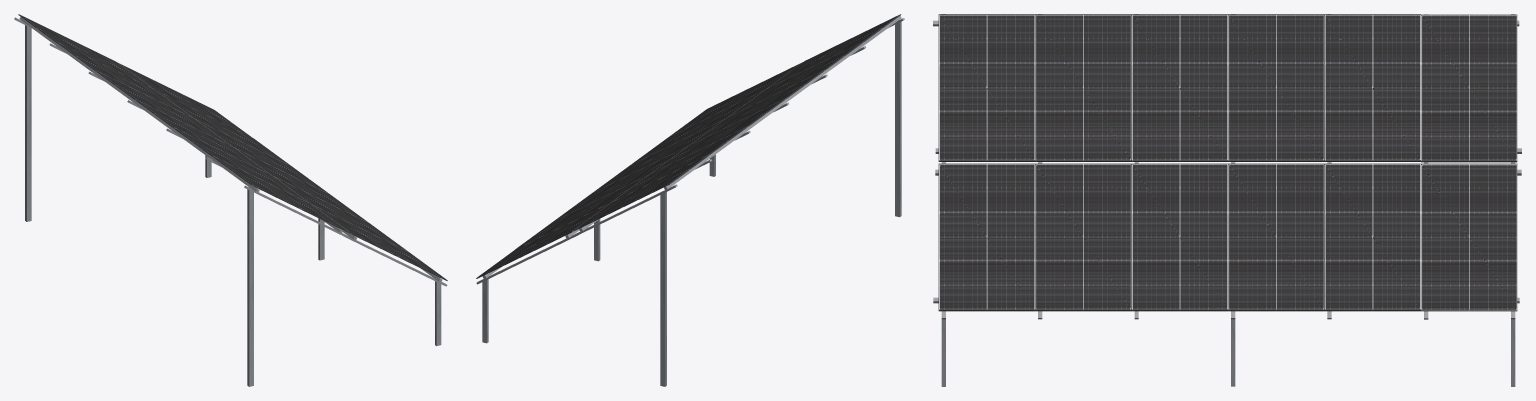
Rendered from solar_panel_ground_12.glb.
3 views of the same model, side by side, from view 1: azimuth 30°, elevation 25°; view 2: azimuth 150°, elevation 25°; view 3: azimuth 270°, elevation 25° (orthographic). The views are drawn at different scales.
Parts seen in each view (by area): view 1: konstrukcja_metal.025, konstrukcja_metal.009, panel.011, panel.010, panel.008, panel.007, panel.006, panel.009, panel.005, panel.002, panel.004, panel.003 (+4 smaller); view 2: konstrukcja_metal.025, konstrukcja_metal.009, panel.005, panel, panel.006, panel.011, panel.007, panel.008, panel.009, panel.001, panel.010, panel.004 (+4 smaller); view 3: panel.002, panel.004, panel, panel.001, panel.003, panel.005, panel.010, panel.006, panel.007, panel.008, panel.009, panel.011.
Boxes of the visible parts, x1,y1,x2,y2 form: konstrukcja_metal.025: (247,189,253,386); konstrukcja_metal.009: (25,25,31,221); panel.011: (213,156,349,232); panel.010: (312,204,447,280); panel.008: (135,99,270,174); panel.007: (96,71,230,145); panel.006: (57,42,192,117); panel.009: (174,128,308,202); panel.005: (18,14,152,88); panel.002: (195,119,330,194); panel.004: (273,176,407,251); panel.003: (235,148,368,222); konstrukcja_metal.025: (895,21,901,217); konstrukcja_metal.009: (660,192,666,386); panel.005: (573,155,708,230); panel: (476,203,609,278); panel.006: (612,127,746,201); panel.011: (767,14,901,88); panel.007: (651,99,785,173); panel.008: (690,70,823,144); panel.009: (728,42,862,116); panel.001: (515,175,648,249); panel.010: (670,62,802,135); panel.004: (631,90,764,164); panel.002: (1228,163,1324,311); panel.004: (1035,163,1131,311); panel: (1421,163,1517,311); panel.001: (1324,163,1420,311); panel.003: (1131,163,1227,311); panel.005: (1421,14,1517,162); panel.010: (938,163,1034,311); panel.006: (1324,14,1420,161); panel.007: (1228,14,1324,161); panel.008: (1131,14,1227,161); panel.009: (1035,14,1131,161); panel.011: (938,14,1034,161).
Bounding box in the file's own units: 6.8 × 6.68 × 13.84.
Materials: 2 (2 with a texture image).
